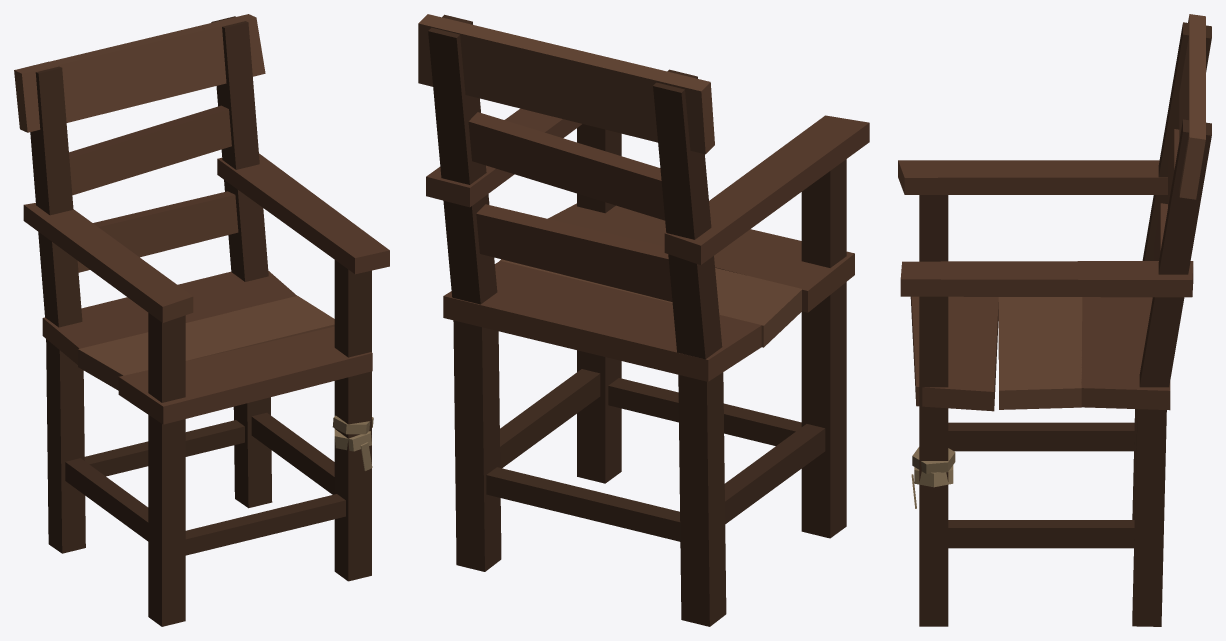
The model's file is tl_prop_wooden_chair_v01.glb.
3 views of the same model, side by side, from view 1: azimuth 30°, elevation 25°; view 2: azimuth 150°, elevation 25°; view 3: azimuth 270°, elevation 25° (orthographic). The views are drawn at different scales.
Visible parts, largest first — view 1: tl_prop_wooden_chair_v01; view 2: tl_prop_wooden_chair_v01; view 3: tl_prop_wooden_chair_v01.
Part boxes in pixels (x1,y1,x2,y2): tl_prop_wooden_chair_v01: (14,14,389,626); tl_prop_wooden_chair_v01: (418,14,869,626); tl_prop_wooden_chair_v01: (898,14,1211,626).
Size of the model in its own units: 0.5263 by 0.9767 by 0.5595.
